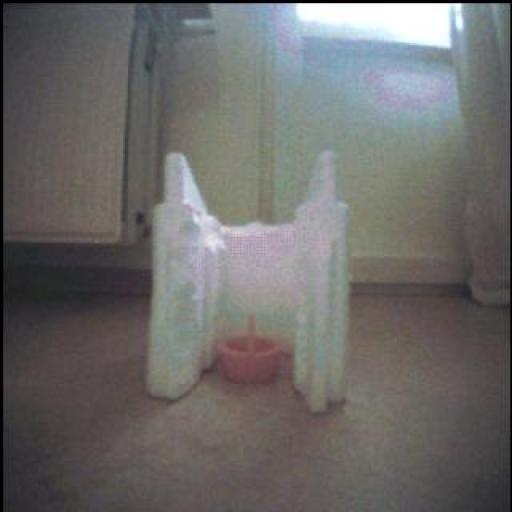Basket: (219, 318, 283, 385)
